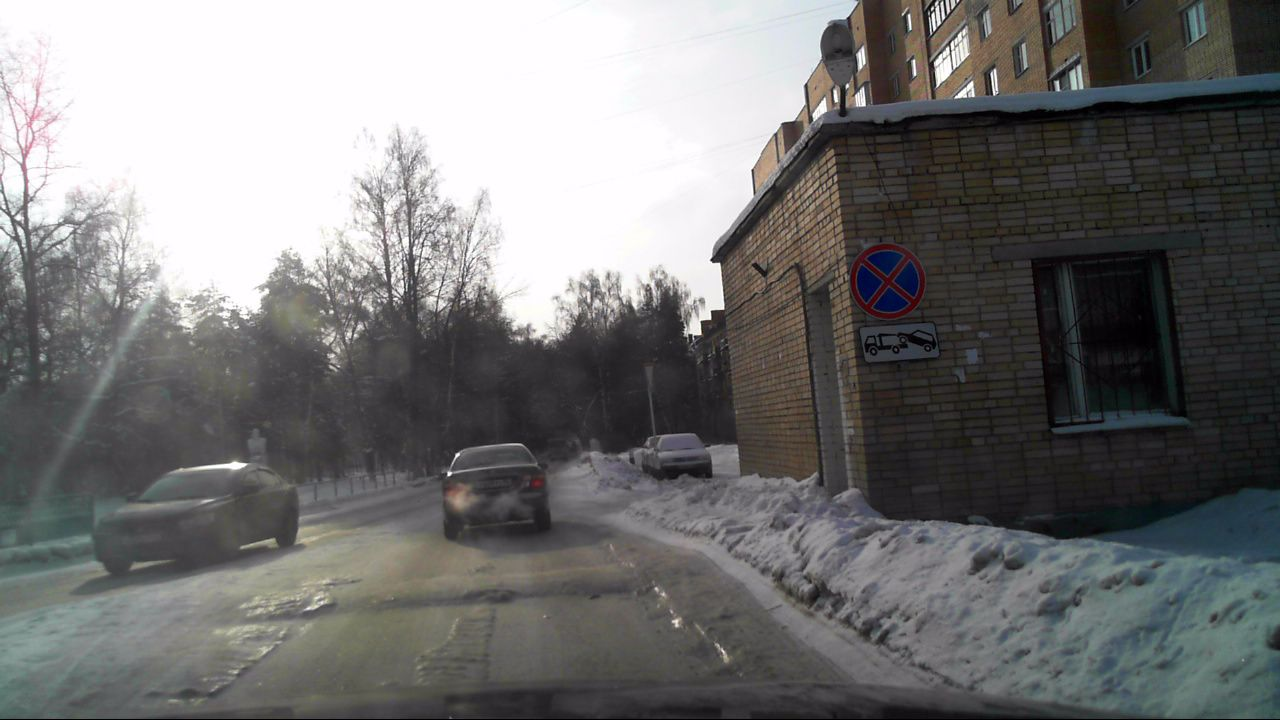No Parking: (849, 242, 928, 319)
